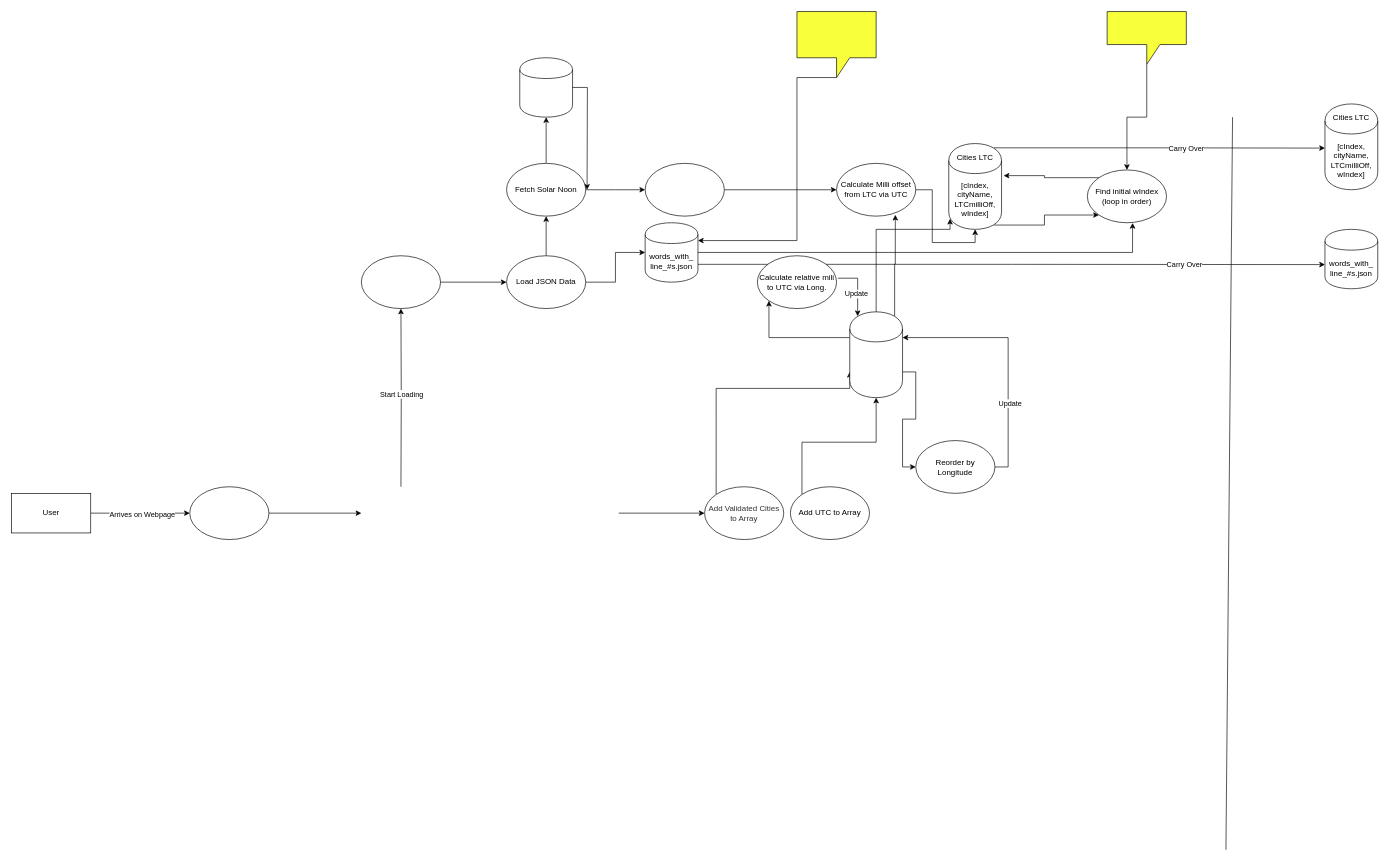
Some shapes in this 1389 by 862 pixel diagram are drawn without their labels. Here are the shapes that lost their labels. From the top down, the centre of each, then its label:
At (x=836, y=44): "create 48hr array".
At (x=1146, y=37): "offset initial index to do rapid cycle easing into correct word/time".
At (x=546, y=87): "Sunrise/ Sunset API".
At (x=684, y=189): "Calculate Solar Time (UTC OFFSET)".
At (x=401, y=282): "Load Resources".
At (x=876, y=354): "Validated Cities: [index, cityName, longitude, UTCmilliOff ]".
At (x=229, y=513): "Webpage".
